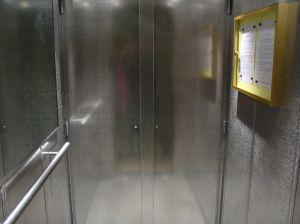Puerta: (59, 3, 222, 222)
